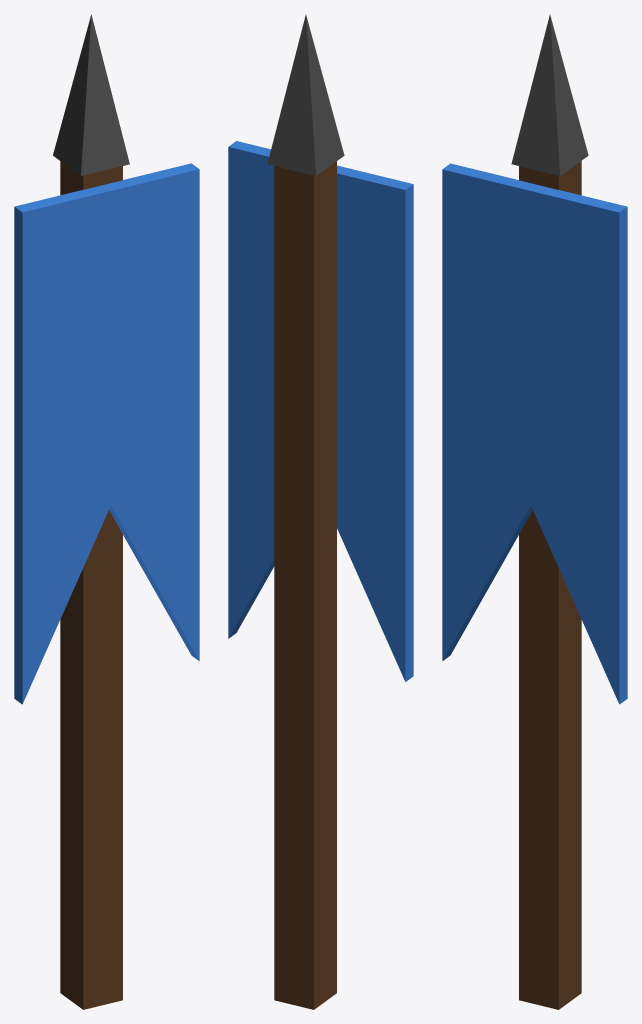
File: flag01.fbx
3 views of the same model, side by side, from view 1: azimuth 30°, elevation 25°; view 2: azimuth 150°, elevation 25°; view 3: azimuth 330°, elevation 25° (orthographic).
Parts seen in each view (by area): view 1: flag01; view 2: flag01; view 3: flag01.
Boxes of the visible parts, box(x1,y1,x2,y2) form: flag01: box(14, 14, 199, 1009); flag01: box(228, 14, 413, 1009); flag01: box(442, 14, 627, 1009).
Size of the model in its own units: 54.43 by 289 by 17.87.
